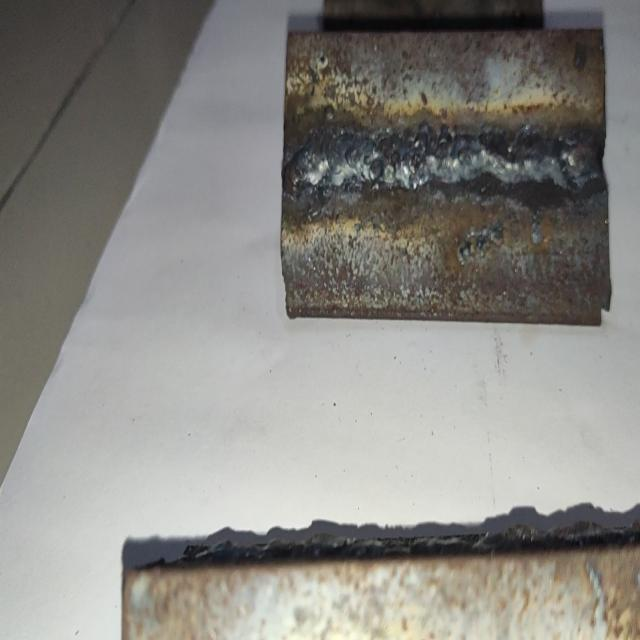Welding Line: (287, 132, 602, 194)
Workpiece: (278, 28, 608, 324)
